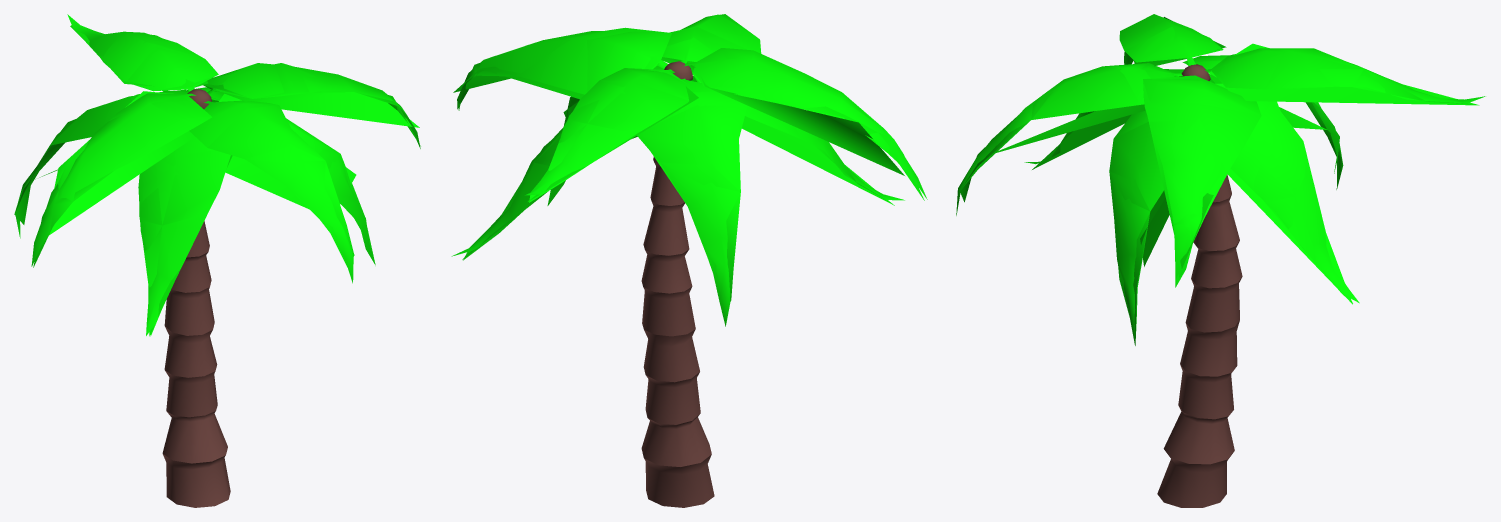
File: Tree.fbx
3 renders of one model, left to right at view 1: azimuth 30°, elevation 25°; view 2: azimuth 150°, elevation 25°; view 3: azimuth 270°, elevation 25°, orthographic. The views are drawn at different scales.
Visible parts, largest first — view 1: Feuille_1, Feuille_1.001, tronc, Feuille_1.003; view 2: Feuille_1, tronc, Feuille_1.001, Feuille_1.003; view 3: Feuille_1, tronc, Feuille_1.001, Feuille_1.003.
Boxes of the visible parts, x1=… form: Feuille_1: x1=15, y1=14, x2=420, y2=335; Feuille_1.001: x1=14, y1=26, x2=420, y2=336; tronc: x1=162, y1=89, x2=230, y2=507; Feuille_1.003: x1=35, y1=25, x2=419, y2=336; Feuille_1: x1=451, y1=14, x2=927, y2=326; tronc: x1=641, y1=61, x2=714, y2=507; Feuille_1.001: x1=457, y1=14, x2=924, y2=301; Feuille_1.003: x1=453, y1=57, x2=904, y2=259; Feuille_1: x1=956, y1=14, x2=1485, y2=345; tronc: x1=1157, y1=64, x2=1242, y2=507; Feuille_1.001: x1=960, y1=27, x2=1474, y2=343; Feuille_1.003: x1=996, y1=17, x2=1479, y2=304.
Bounding box in the file's own units: 14.67 × 14.03 × 15.22.
